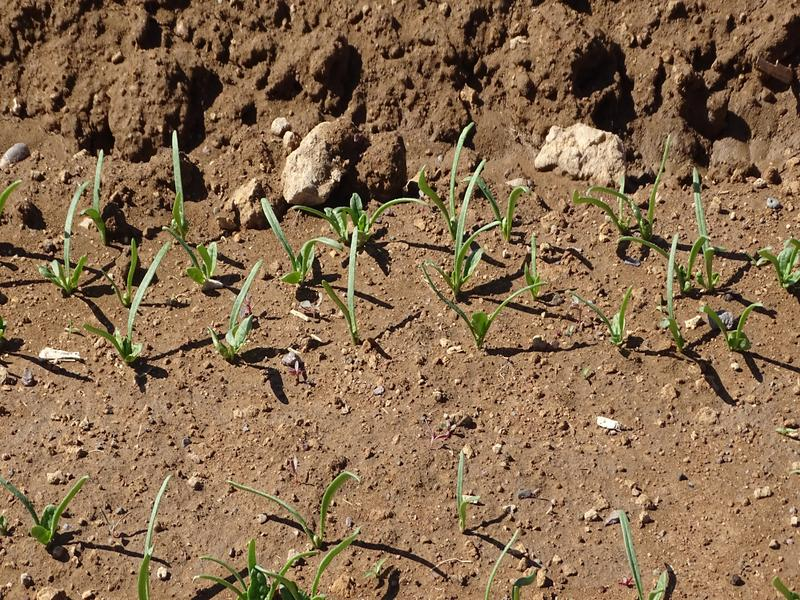Espinaca: (269, 153, 549, 340), (583, 147, 797, 353), (54, 153, 262, 357), (204, 471, 361, 598), (4, 475, 91, 558), (125, 468, 176, 600), (607, 509, 673, 600), (478, 522, 521, 599), (455, 452, 478, 523)
